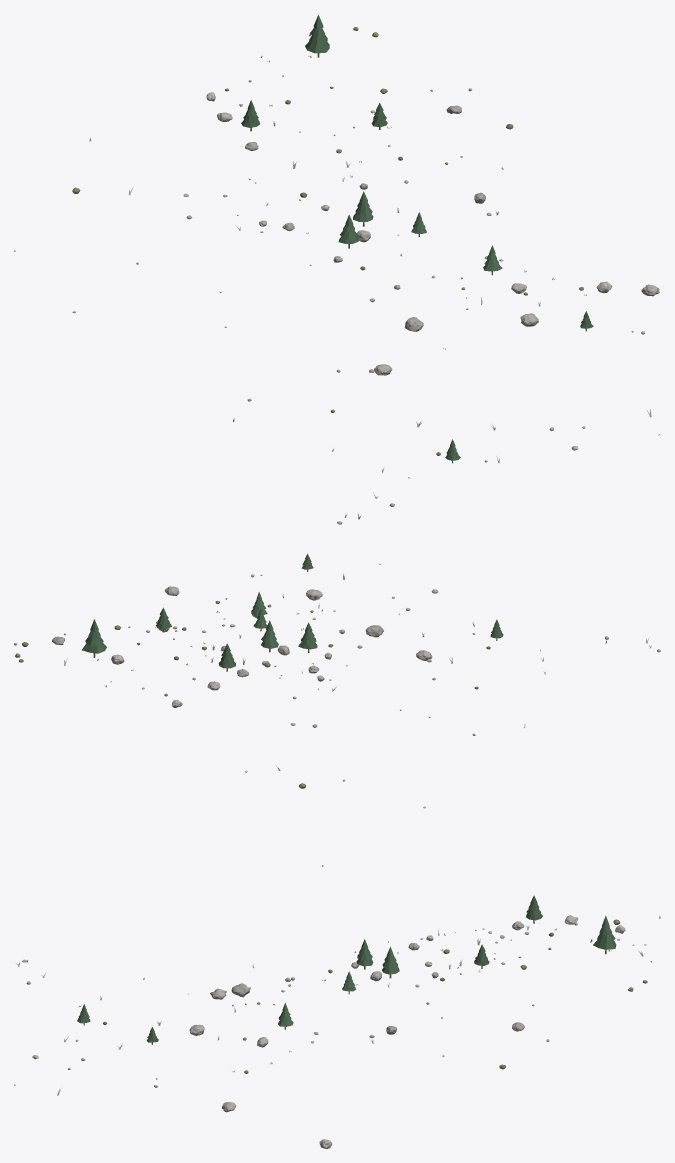
The model's file is coast_land_scatter_c09_22.glb.
3 renders of one model, top to bottom at view 1: azimuth 30°, elevation 25°; view 2: azimuth 150°, elevation 25°; view 3: azimuth 270°, elevation 25°, orthographic. The views are drawn at different scales.
Visible parts, largest first — view 1: coast_land_scatter_c09_22; view 2: coast_land_scatter_c09_22; view 3: coast_land_scatter_c09_22.
Part boxes in pixels (x1,y1,x2,y2): coast_land_scatter_c09_22: [14, 14, 659, 524]; coast_land_scatter_c09_22: [14, 553, 660, 866]; coast_land_scatter_c09_22: [14, 895, 660, 1148].
Bounding box in the file's own units: 177 × 77.08 × 249.
